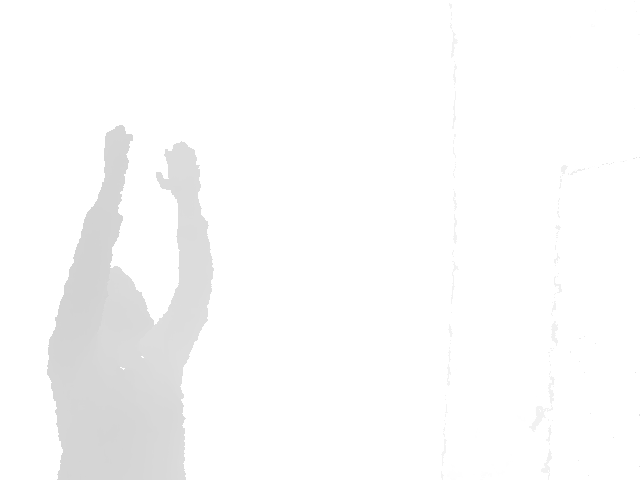hand: (155, 141, 202, 196), (101, 124, 135, 182)
head: (90, 265, 155, 353)
person: (45, 124, 215, 480)
